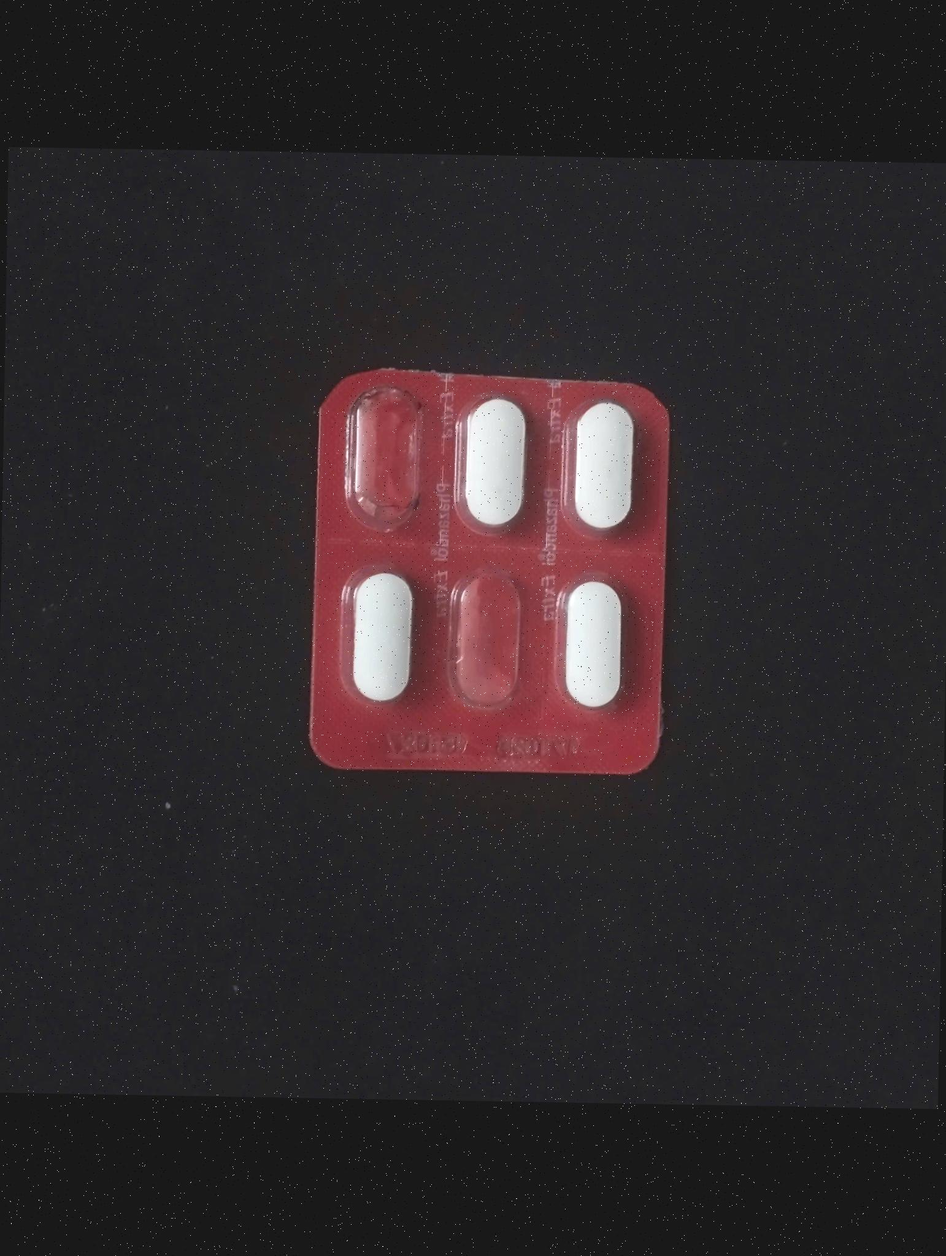Empty: (345, 389, 430, 535), (450, 567, 525, 726)
Full: (337, 563, 425, 708), (456, 393, 540, 535), (550, 572, 629, 721), (566, 400, 646, 535)
